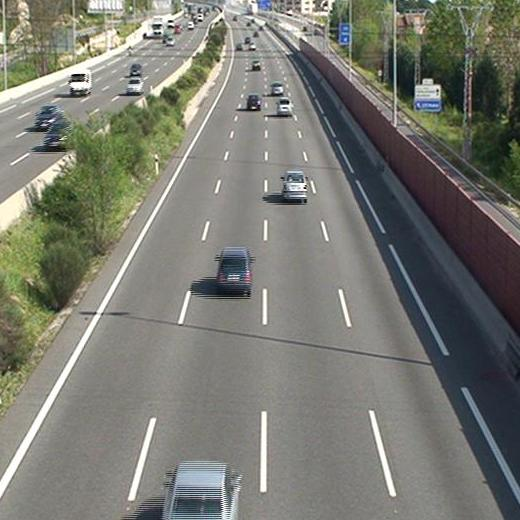car: (215, 248, 252, 293), (281, 171, 307, 200), (276, 98, 293, 116), (246, 95, 261, 111), (271, 83, 284, 95), (253, 59, 262, 71)
